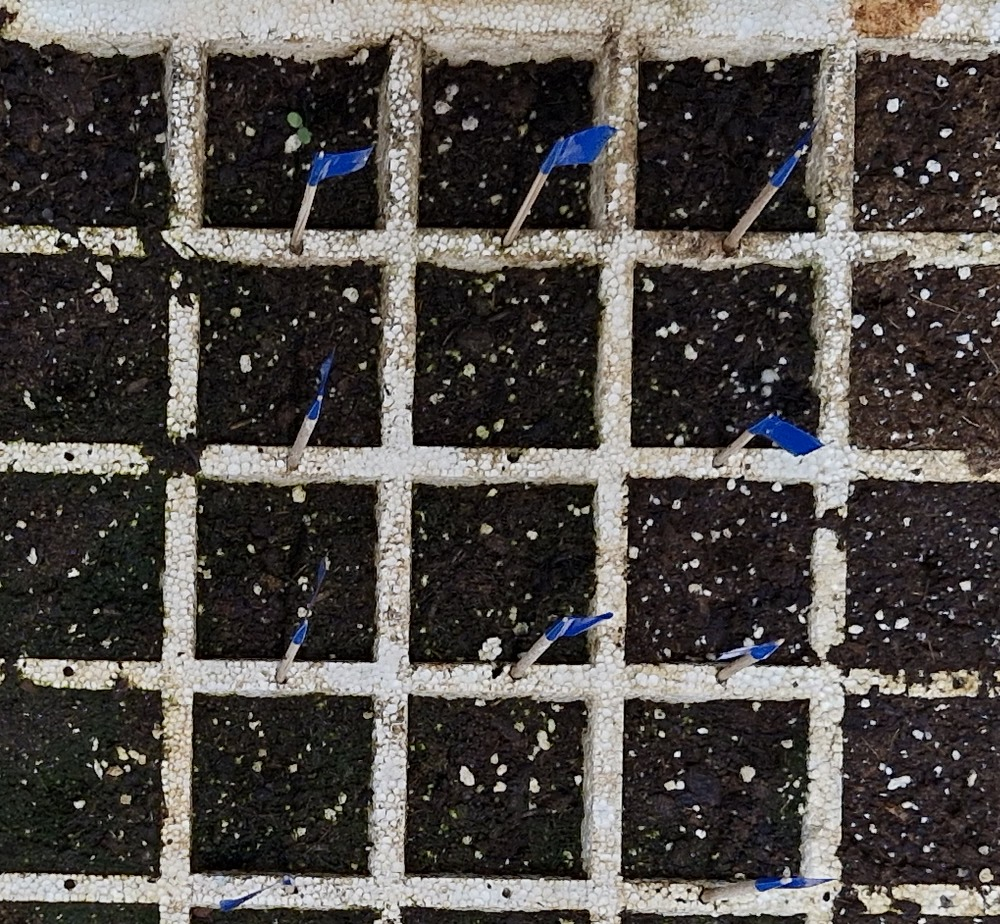Folha: (297, 127, 311, 144), (287, 112, 302, 127)
Germinacao: (287, 112, 311, 144)
